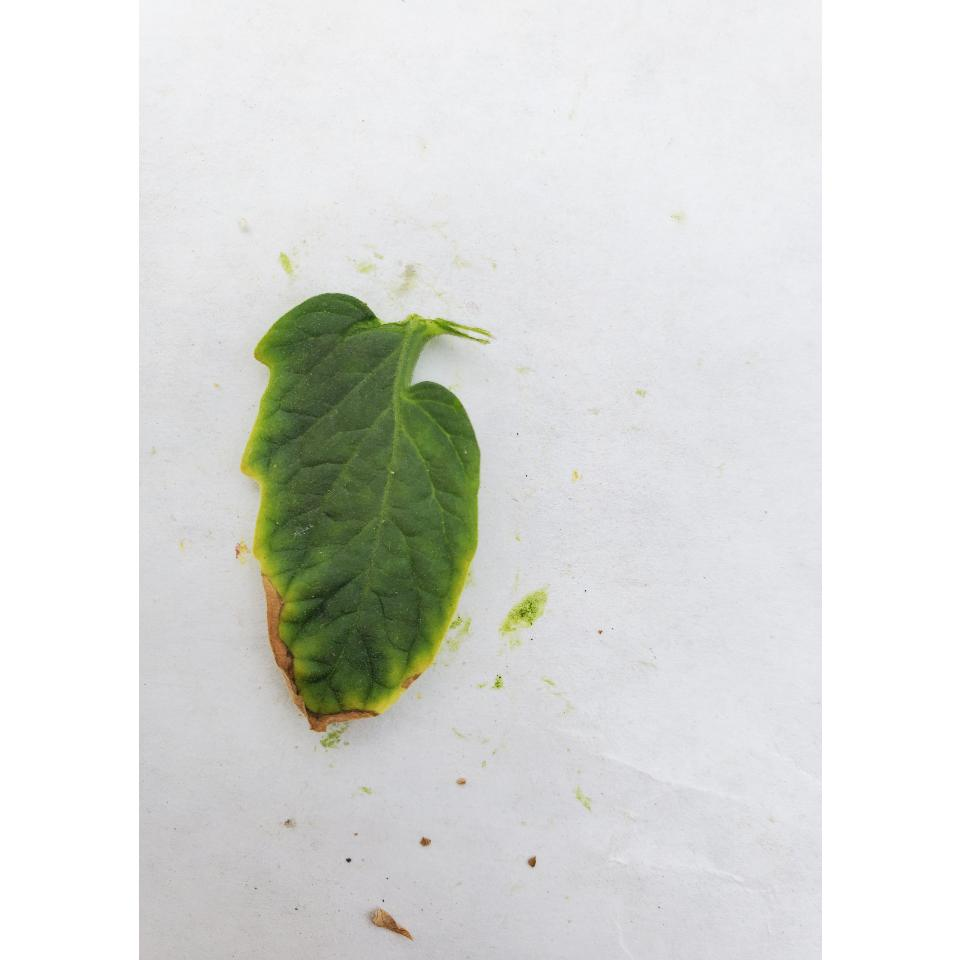tomato_bacterial_blight: (226, 312, 472, 758)
